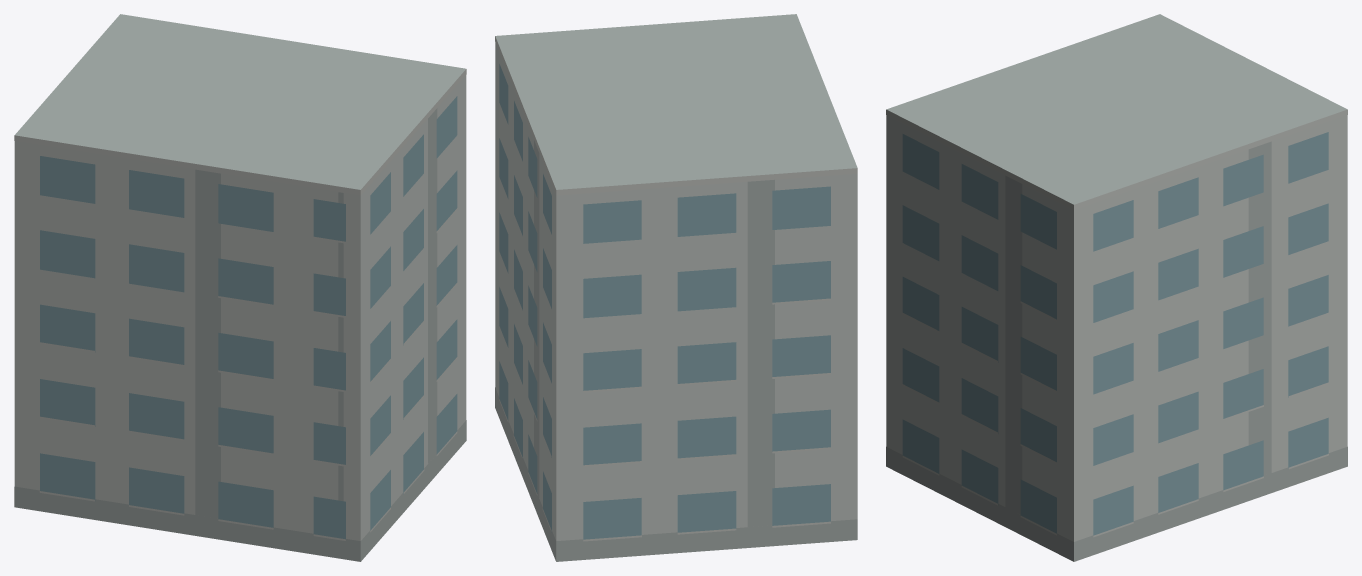
File: survey-upis-32838986.glb
The picture shows the model from 3 angles, left to right: view 1: azimuth 30°, elevation 25°; view 2: azimuth 150°, elevation 25°; view 3: azimuth 270°, elevation 25°; orthographic projection. The views are drawn at different scales.
Parts seen in each view (by area): view 1: survey-upis-32838986.tmp; view 2: survey-upis-32838986.tmp; view 3: survey-upis-32838986.tmp.
Boxes of the visible parts, box(x1,y1,x2,y2) form: survey-upis-32838986.tmp: box(14, 14, 466, 561); survey-upis-32838986.tmp: box(495, 14, 857, 561); survey-upis-32838986.tmp: box(886, 14, 1347, 561).
Size of the model in its own units: 18.23 by 15.9 by 18.63.
